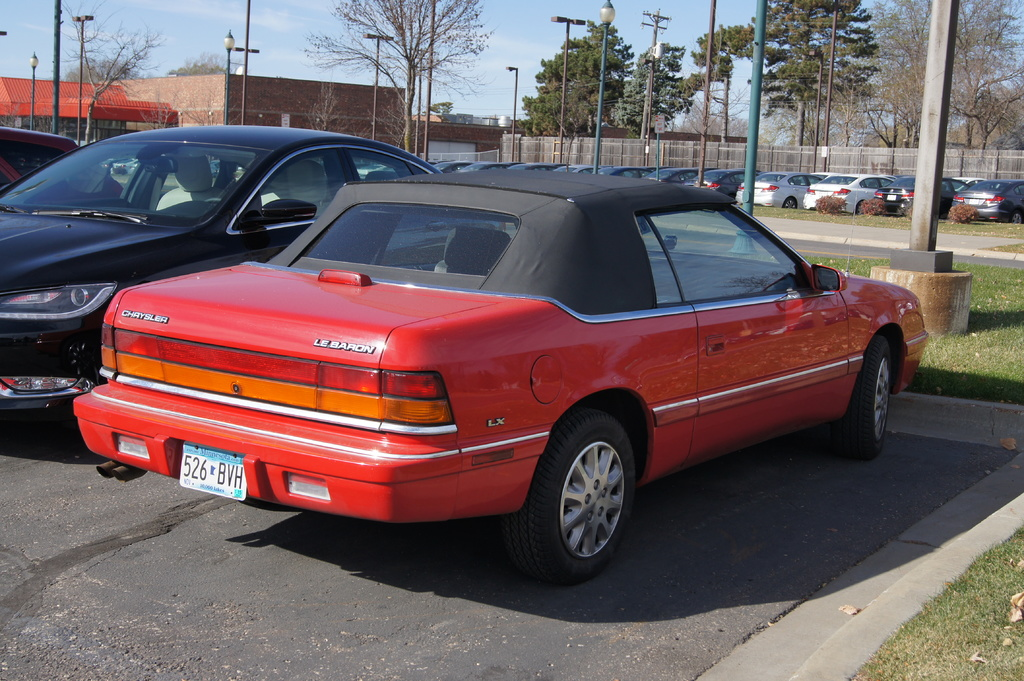Car: (69, 172, 920, 592), (0, 119, 488, 428), (432, 167, 1023, 225), (0, 127, 85, 194)
